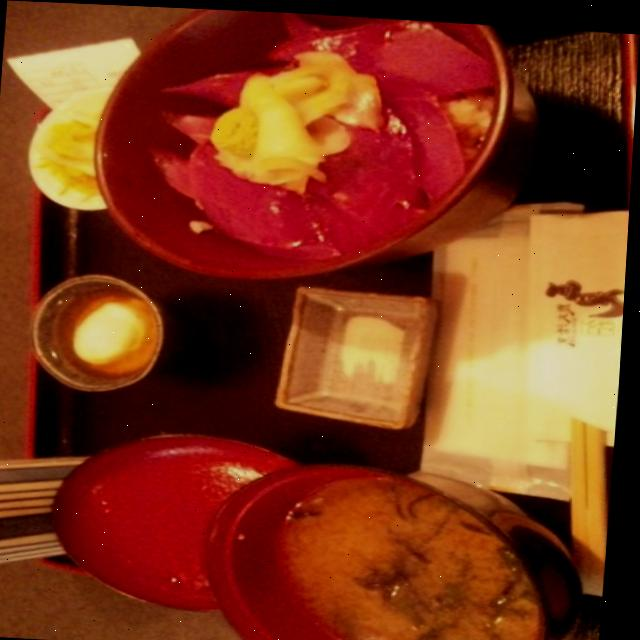刺身生食: (86, 3, 511, 291)
汤锅炖物: (214, 453, 555, 640)
